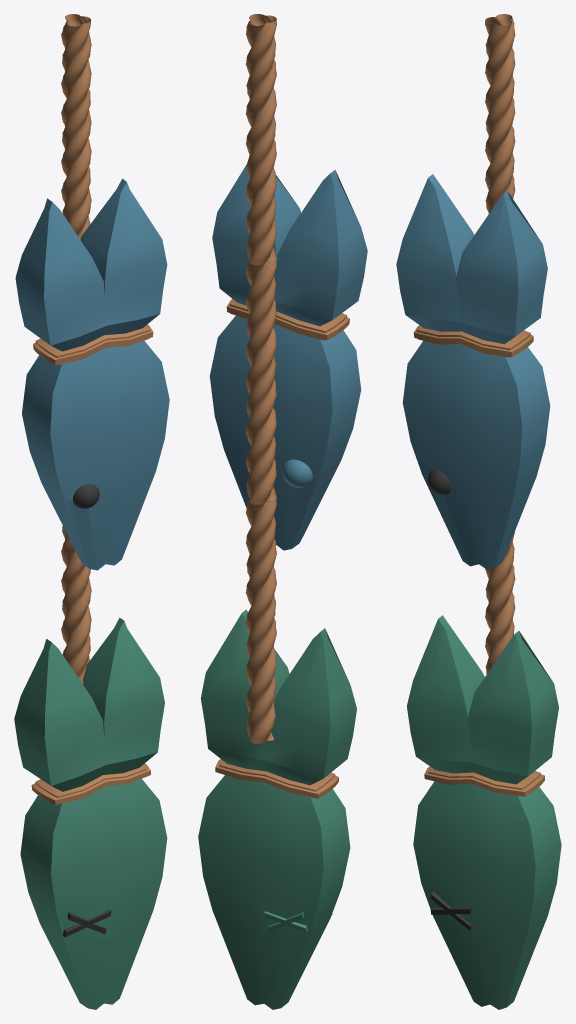
Rendered from Corda 3 + pesci fbx.fbx.
3 views of the same model, side by side, from view 1: azimuth 30°, elevation 25°; view 2: azimuth 150°, elevation 25°; view 3: azimuth 330°, elevation 25° (orthographic). The views are drawn at different scales.
Parts seen in each view (by area): view 1: Fish 4.001, Fish 3.001, Rope 0 .003; view 2: Fish 3.001, Fish 4.001, Rope 0 .003; view 3: Fish 3.001, Fish 4.001, Rope 0 .003.
Boxes of the visible parts, x1,y1,x2,y2 form: Fish 4.001: (15, 178, 169, 570); Fish 3.001: (14, 617, 167, 1009); Rope 0 .003: (61, 14, 91, 684); Fish 3.001: (198, 609, 356, 1009); Fish 4.001: (209, 165, 367, 550); Rope 0 .003: (245, 14, 276, 743); Fish 3.001: (407, 615, 561, 1009); Fish 4.001: (396, 174, 550, 569); Rope 0 .003: (485, 14, 515, 674).
Size of the model in its own units: 55.09 by 390 by 34.78.
